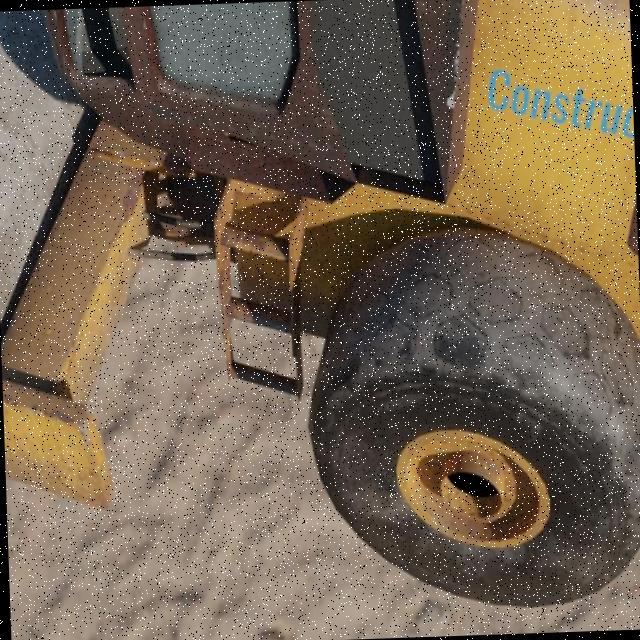Roller: (0, 0, 640, 627)
